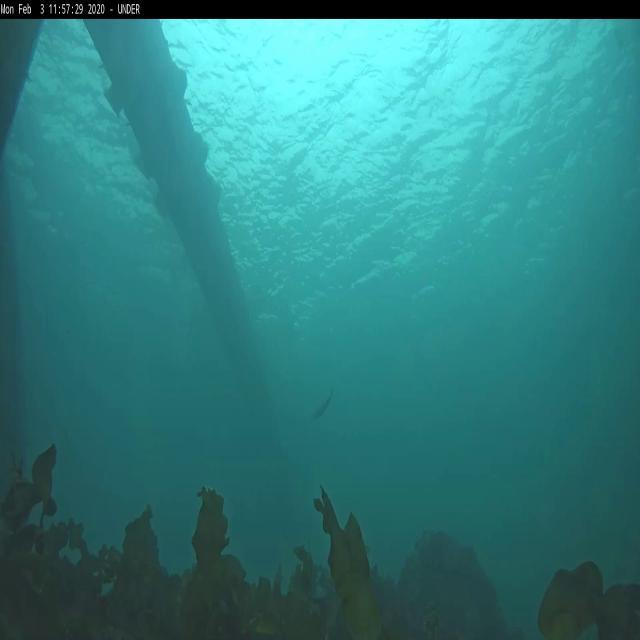fish: (309, 392, 334, 419)
